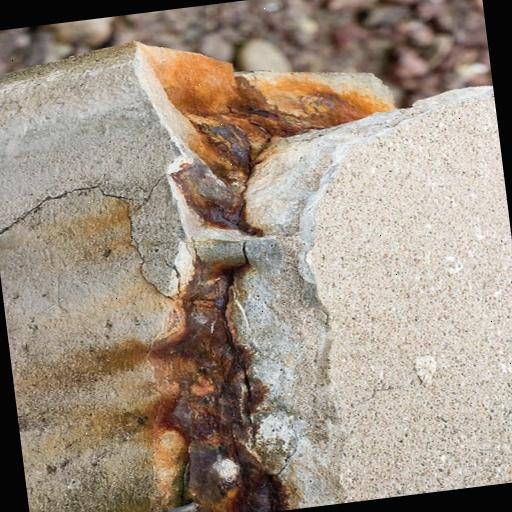spalling: (135, 49, 490, 512)
